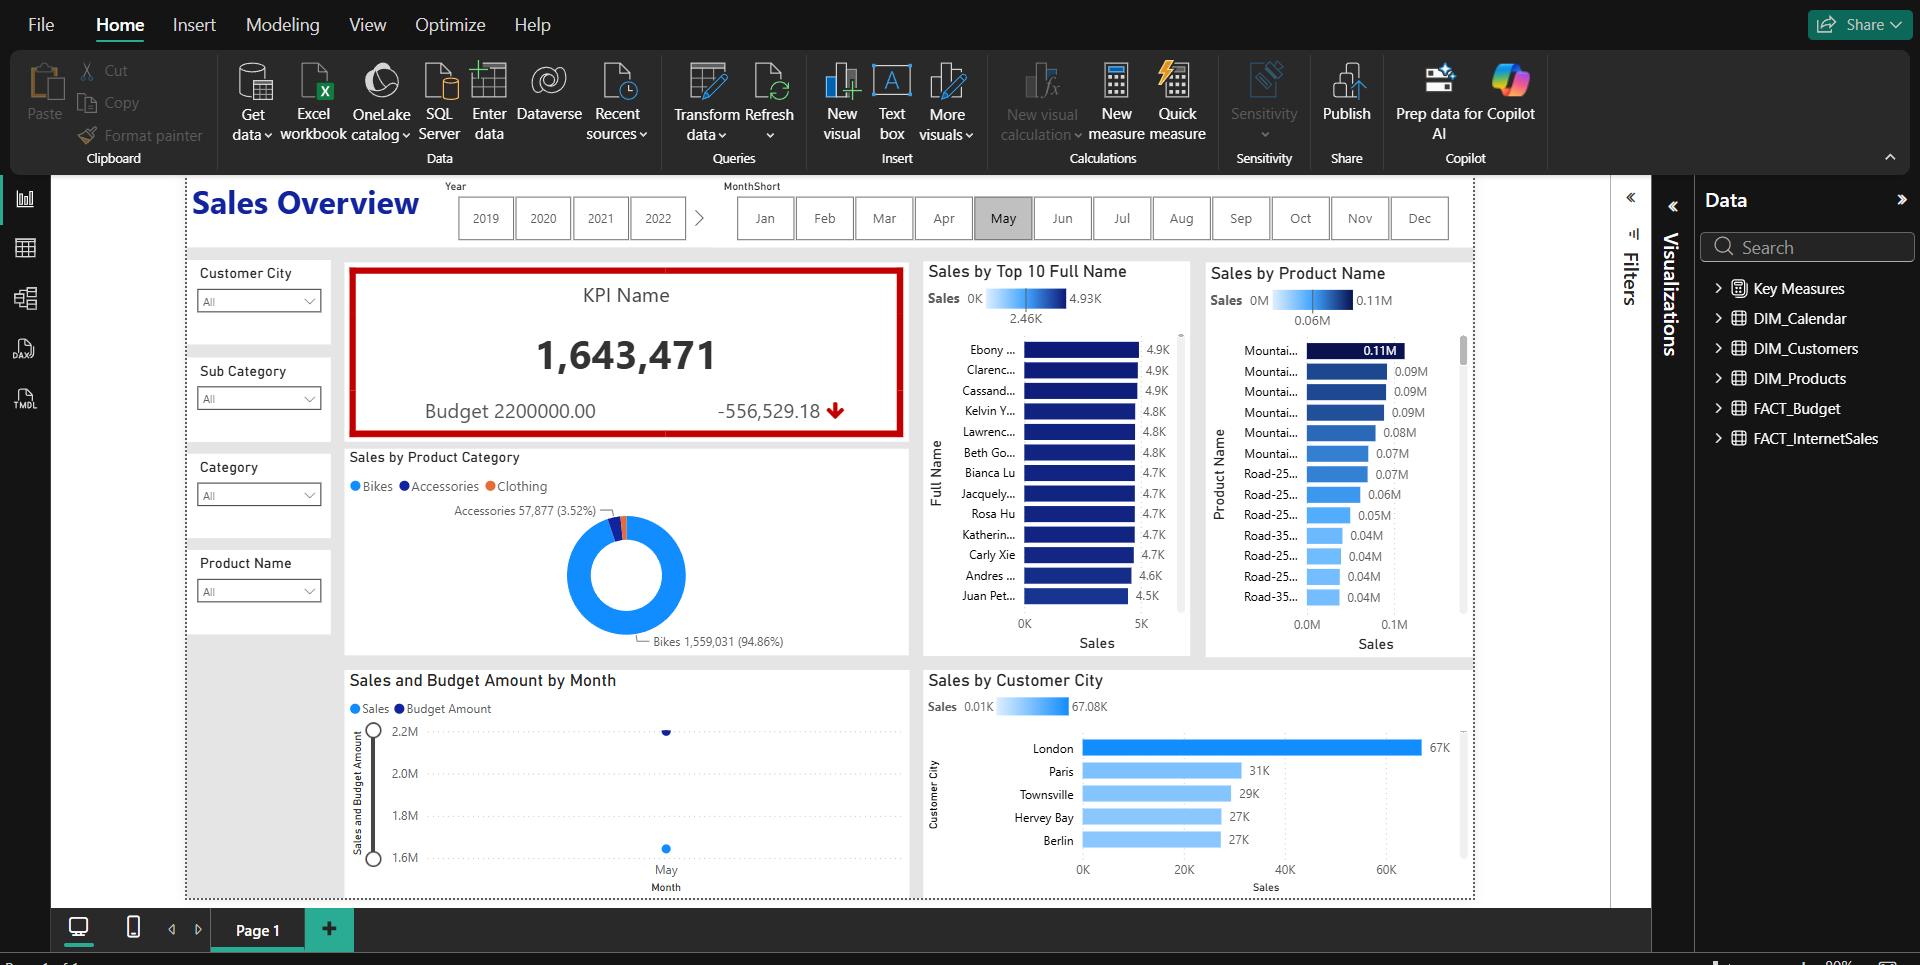

Layout of this report page (visuals, bound fields, positions):
{"tool":"powerbi","page":{"name":"Page 1","canvas":[1280,720],"ordinal":0},"visuals":[{"type":"textbox","box":[0,0,1279.7,71.6],"z":0},{"type":"slicer","fields":{"Values":["DIM_Customers.Customer City"]},"box":[0,85.1,143.2,83.8],"z":1000},{"type":"slicer","fields":{"Values":["DIM_Products.Sub Category"]},"box":[0,181.1,143.2,83.8],"z":2000},{"type":"slicer","fields":{"Values":["DIM_Products.Product Category"]},"box":[0,277,143.2,83.8],"z":3000},{"type":"slicer","fields":{"Values":["DIM_Products.Product Name"]},"box":[0,373,143.2,83.8],"z":4000},{"type":"slicer","fields":{"Values":["DIM_Calendar.Year"]},"box":[244.3,0,277.1,71.4],"z":5000},{"type":"slicer","fields":{"Values":["DIM_Calendar.MonthShort"]},"box":[521.6,0,758.1,71.6],"z":6000},{"type":"BBED0A4D4D8D44CE93CF2DAFADEE466C","fields":{"actual":["FACT_InternetSales.Sales"],"target1":["FACT_Budget.Budget Amount"],"target2":["Key Measures.Sales - Budget"]},"box":[157.1,87.1,561.4,178.6],"z":7000},{"type":"donutChart","fields":{"Category":["DIM_Products.Product Category"],"Y":["Key Measures.Sales"]},"box":[157.1,272.9,561.4,205.7],"z":8000},{"type":"lineChart","fields":{"Y":["Key Measures.Sales","Key Measures.Budget Amount"],"Category":["DIM_Calendar.MonthShort"]},"box":[157.1,492.9,561.4,227.1],"z":9000},{"type":"barChart","title":"Sales by Top 10 Full Name","fields":{"Y":["Key Measures.Sales"],"Category":["DIM_Customers.Full Name"]},"box":[732.9,85.7,265.7,392.9],"z":10000},{"type":"barChart","fields":{"Category":["DIM_Products.Product Name"],"Y":["Key Measures.Sales"]},"box":[1014.3,87.1,265.7,392.9],"z":11000},{"type":"clusteredBarChart","fields":{"Category":["DIM_Customers.Customer City"],"Y":["Key Measures.Sales"]},"box":[732.9,492.9,547.1,227.1],"z":12000}]}

Visuals, with their boxes on the page's 1280x720 design canvas (x1, y1, x2, y2). These are canvas units, not pixel positions in the 1920x965 screenshot, which may show the page scaled, cropped or inside an application window:
textbox: [x1=0, y1=0, x2=1280, y2=72]
slicer - DIM_Customers.Customer City: [x1=0, y1=85, x2=143, y2=169]
slicer - DIM_Products.Sub Category: [x1=0, y1=181, x2=143, y2=265]
slicer - DIM_Products.Product Category: [x1=0, y1=277, x2=143, y2=361]
slicer - DIM_Products.Product Name: [x1=0, y1=373, x2=143, y2=457]
slicer - DIM_Calendar.Year: [x1=244, y1=0, x2=521, y2=71]
slicer - DIM_Calendar.MonthShort: [x1=522, y1=0, x2=1280, y2=72]
BBED0A4D4D8D44CE93CF2DAFADEE466C - FACT_InternetSales.Sales x FACT_Budget.Budget Amount: [x1=157, y1=87, x2=718, y2=266]
donutChart - DIM_Products.Product Category x Key Measures.Sales: [x1=157, y1=273, x2=718, y2=479]
lineChart - Key Measures.Sales x Key Measures.Budget Amount: [x1=157, y1=493, x2=718, y2=720]
"Sales by Top 10 Full Name" barChart: [x1=733, y1=86, x2=999, y2=479]
barChart - DIM_Products.Product Name x Key Measures.Sales: [x1=1014, y1=87, x2=1280, y2=480]
clusteredBarChart - DIM_Customers.Customer City x Key Measures.Sales: [x1=733, y1=493, x2=1280, y2=720]
